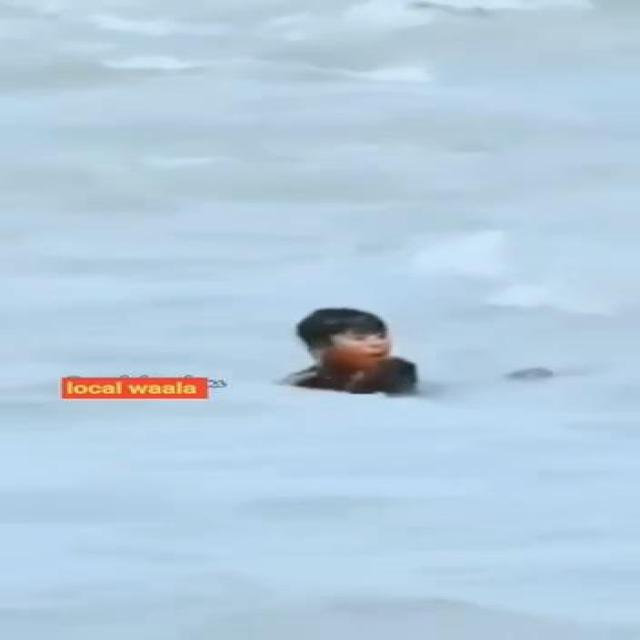Out of Water: (274, 304, 434, 397)
